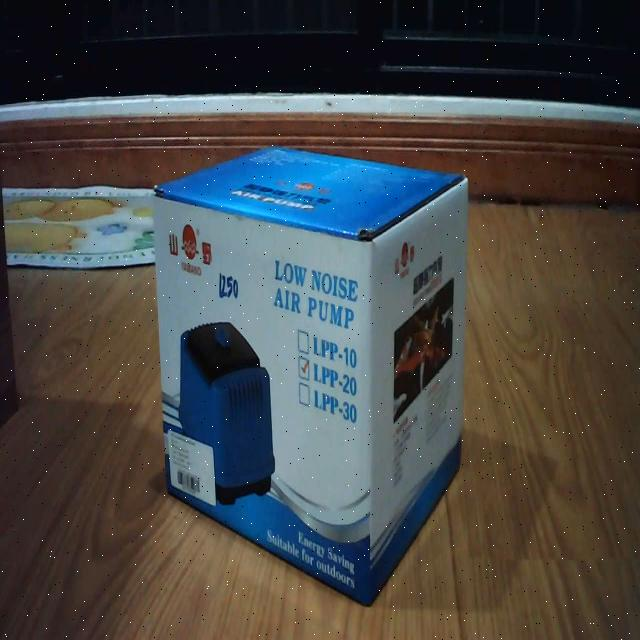YAMANO_LPP_20: (148, 130, 484, 622)
